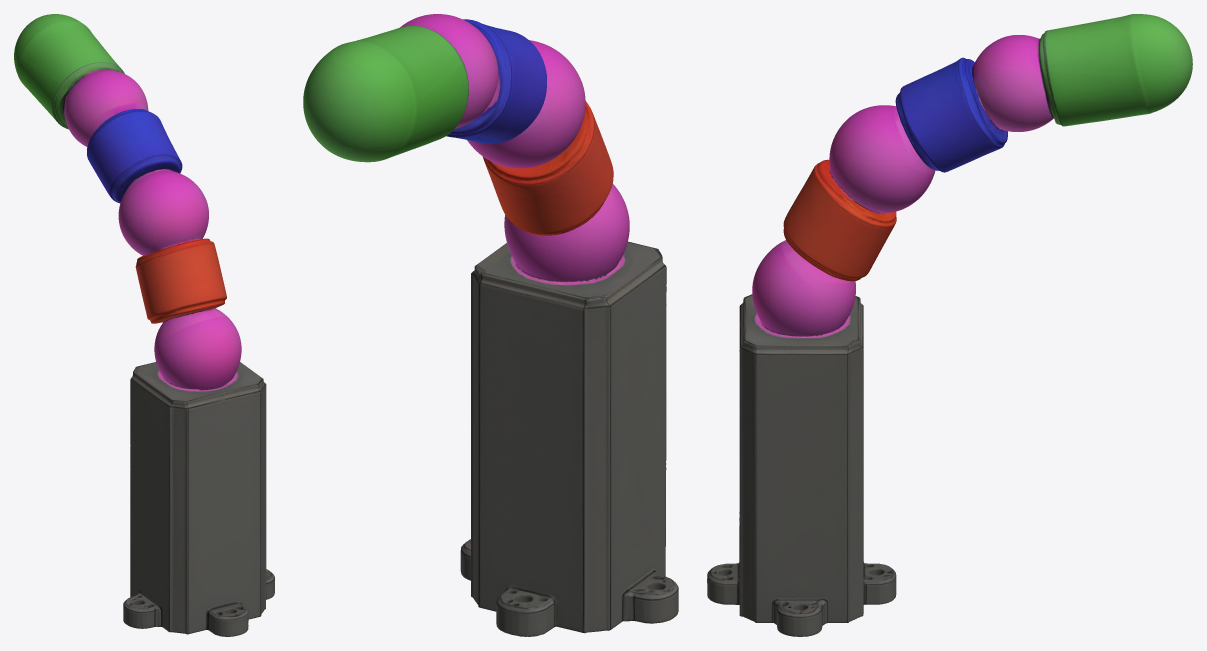
3 renders of one model, left to right at view 1: azimuth 30°, elevation 25°; view 2: azimuth 150°, elevation 25°; view 3: azimuth 270°, elevation 25°, orthographic. The views are drawn at different scales.
Parts seen in each view (by area): view 1: tripo_node_69b8fb73-7017-46af-a09a-2227cecde1f8; view 2: tripo_node_69b8fb73-7017-46af-a09a-2227cecde1f8; view 3: tripo_node_69b8fb73-7017-46af-a09a-2227cecde1f8.
Boxes of the visible parts, bbox=[...] form: tripo_node_69b8fb73-7017-46af-a09a-2227cecde1f8: bbox=[14, 14, 274, 636]; tripo_node_69b8fb73-7017-46af-a09a-2227cecde1f8: bbox=[303, 14, 678, 636]; tripo_node_69b8fb73-7017-46af-a09a-2227cecde1f8: bbox=[707, 14, 1192, 636].
Size of the model in its own units: 0.316 by 1 by 0.763.
1 material, 1 textured.
